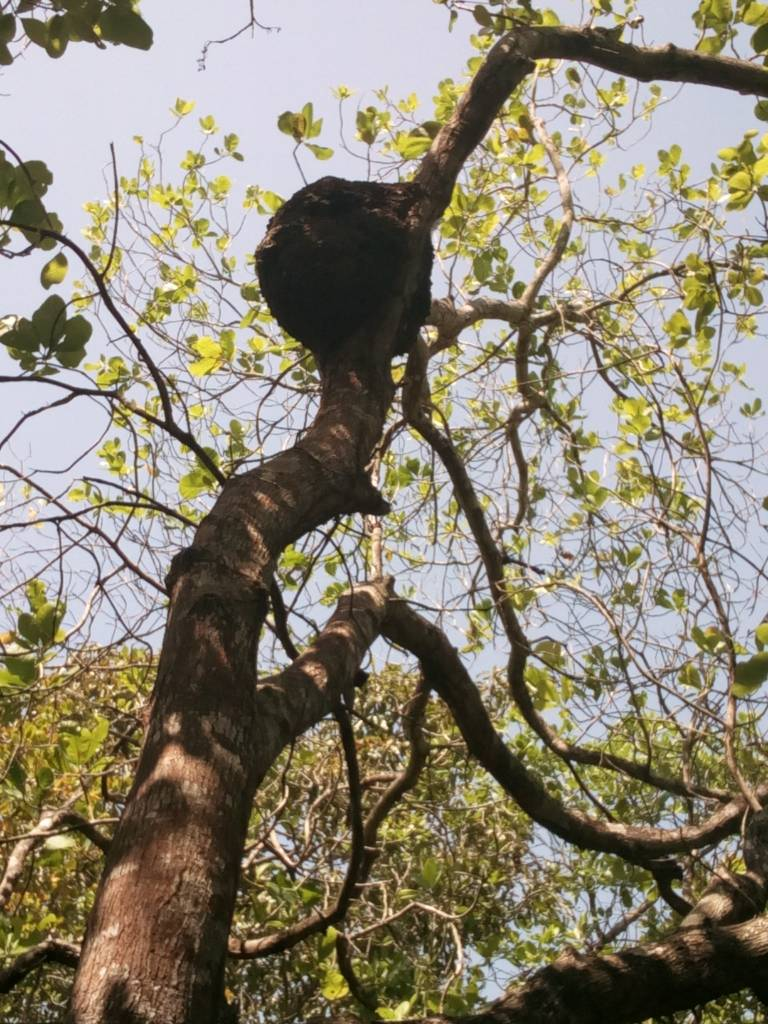Termites: (260, 178, 407, 346)
